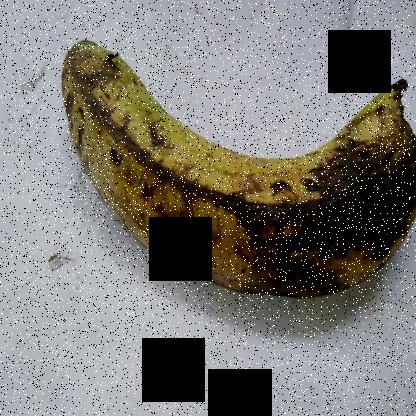rotten: (43, 30, 415, 322)
